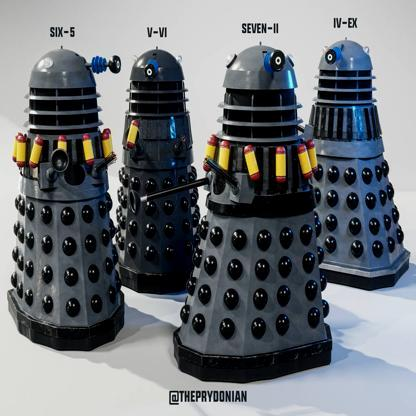dalek: (163, 37, 315, 390), (8, 43, 121, 350), (302, 37, 393, 286), (115, 38, 196, 310)
